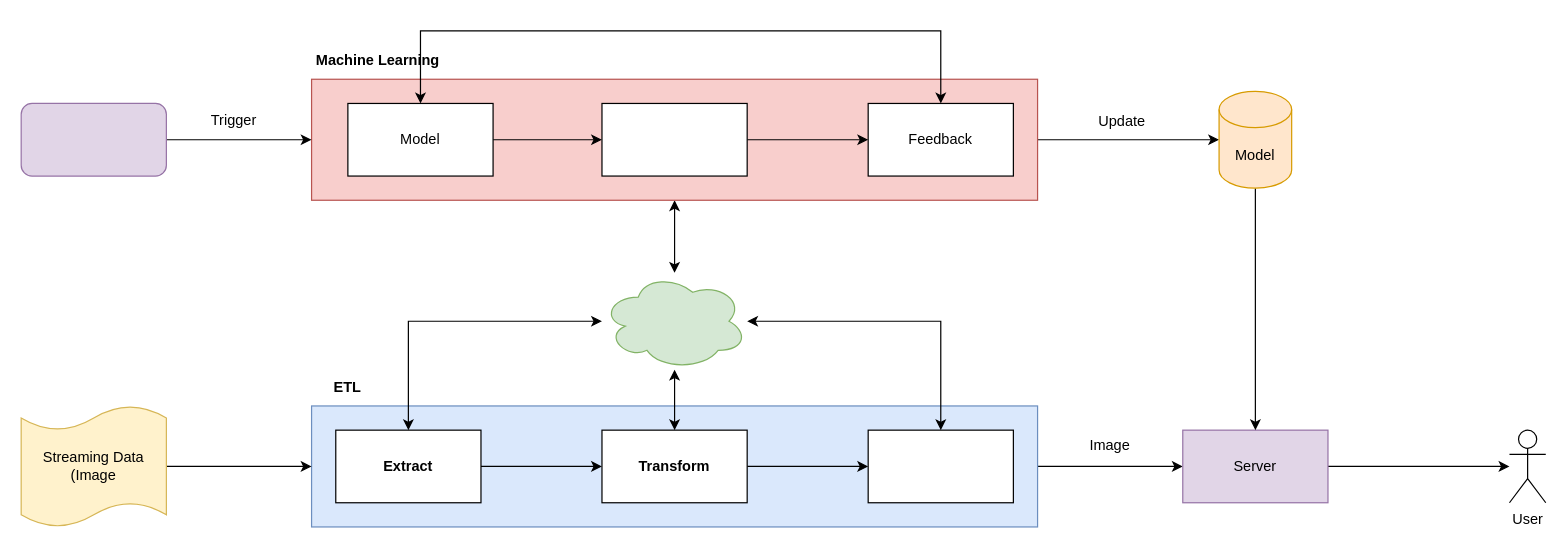
Some shapes in this 1567 by 549 pixel diagram are drawn without their labels. Here are the shapes that lost their labels. From the top down, the centre of each, then its label:
At pixel 93 139: "Batch Server (Airflow)".
At pixel 674 139: "Evaluation".
At pixel 674 321: "Image Server".
At pixel 940 466: "Load".
